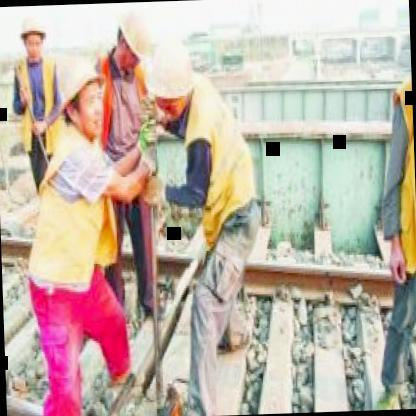helmet: (48, 44, 113, 146), (144, 34, 199, 126), (110, 1, 176, 75), (17, 7, 53, 66)
